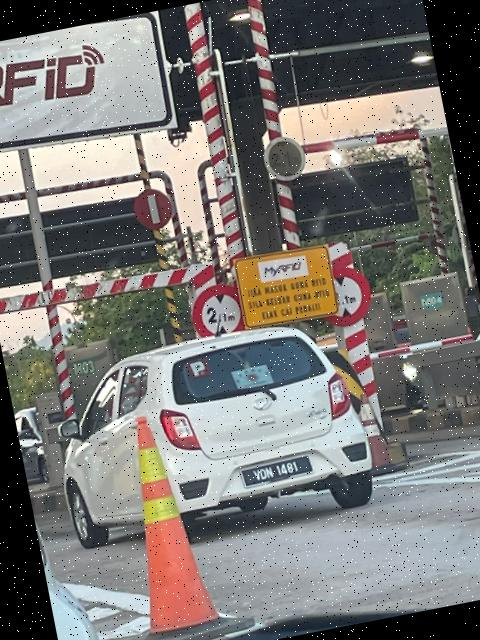License_Plate: (241, 455, 310, 491)
car: (45, 305, 385, 566)
